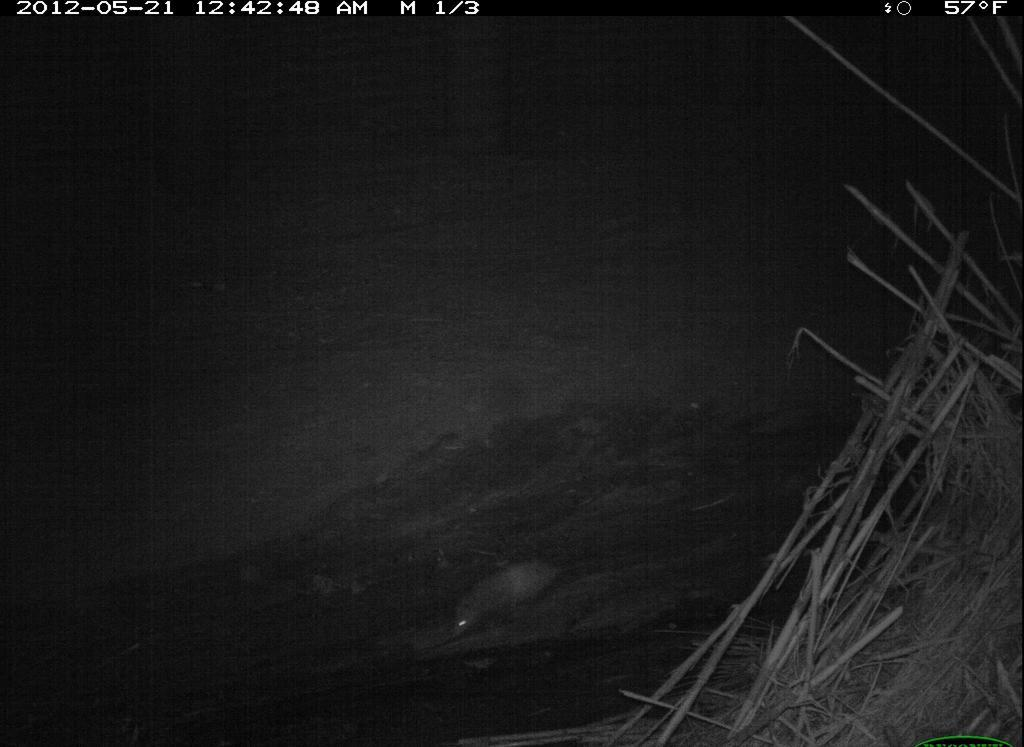opossum: (422, 539, 615, 664)
